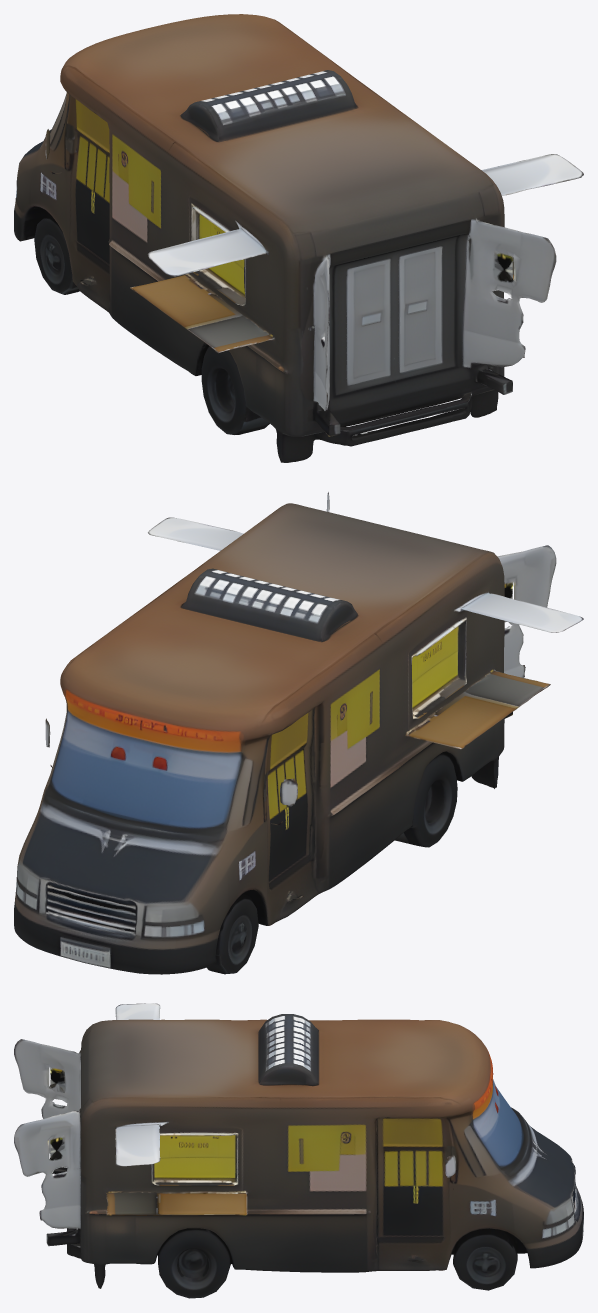
Rendered from silverspoon.glb.
3 renders of one model, top to bottom at view 1: azimuth 30°, elevation 25°; view 2: azimuth 150°, elevation 25°; view 3: azimuth 270°, elevation 25°, orthographic. The views are drawn at different scales.
Visible parts, largest first — view 1: model; view 2: model; view 3: model.
Boxes of the visible parts, x1,y1,x2,y2 form: model: (14,14,583,462); model: (14,492,583,974); model: (14,1003,583,1298).
Size of the model in its own units: 1.27 by 0.8001 by 1.89.
Materials: 1 (1 with a texture image).
